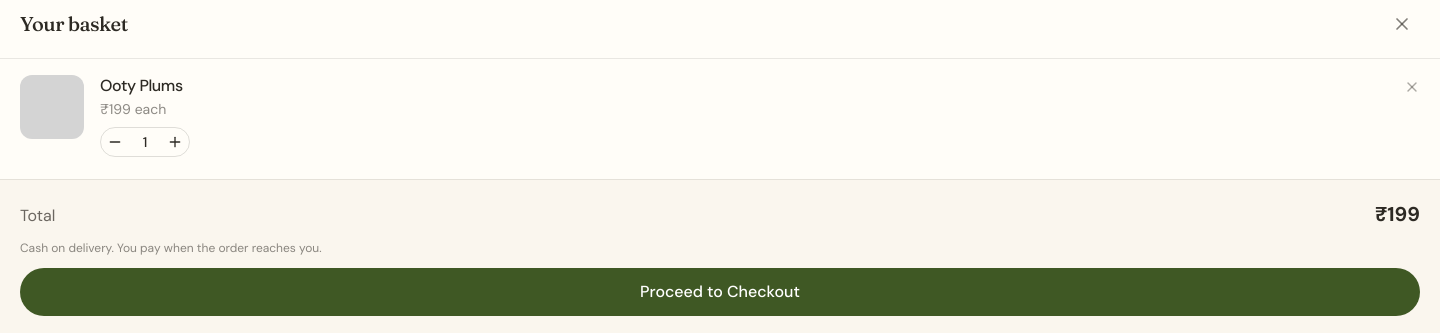
Scenario: Cart › changes quantity and total with the + and - buttons
Click the button named "Increase Ooty Plums" at (175, 142), box [161, 128, 189, 156]
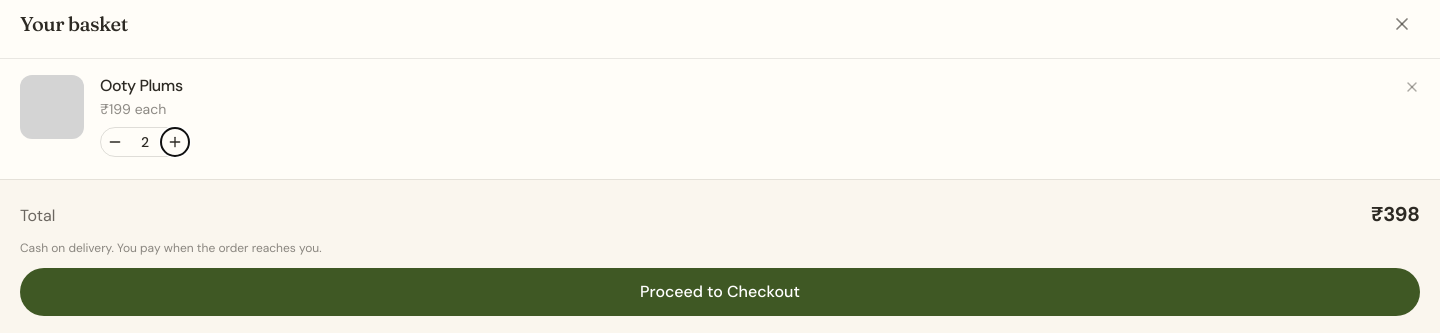
Check: the text "2" is shown, box [141, 133, 149, 151]
Check: the text "₹398" is shown, box [1371, 200, 1420, 228]
Click the button named "Decrease Ooty Plums" at (115, 142), box [101, 128, 129, 156]
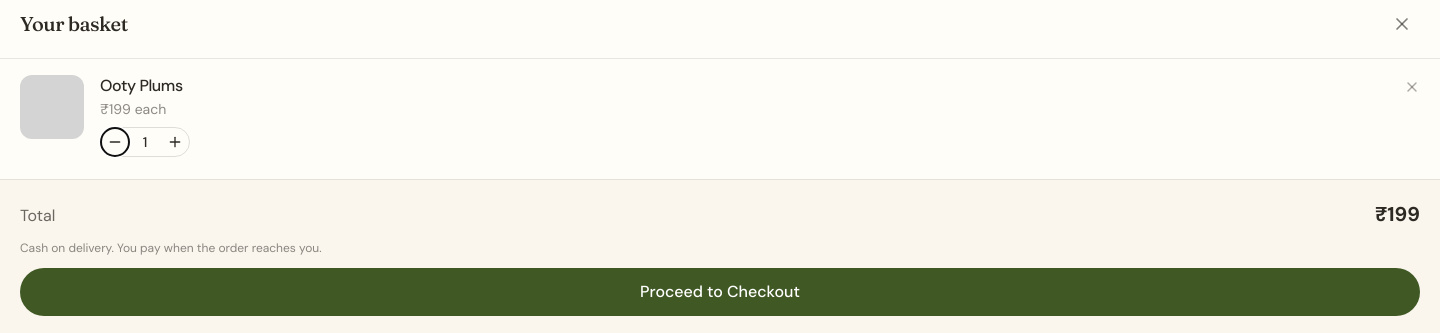
Click the button named "Decrease Ooty Plums" at (115, 142), box [101, 128, 129, 156]
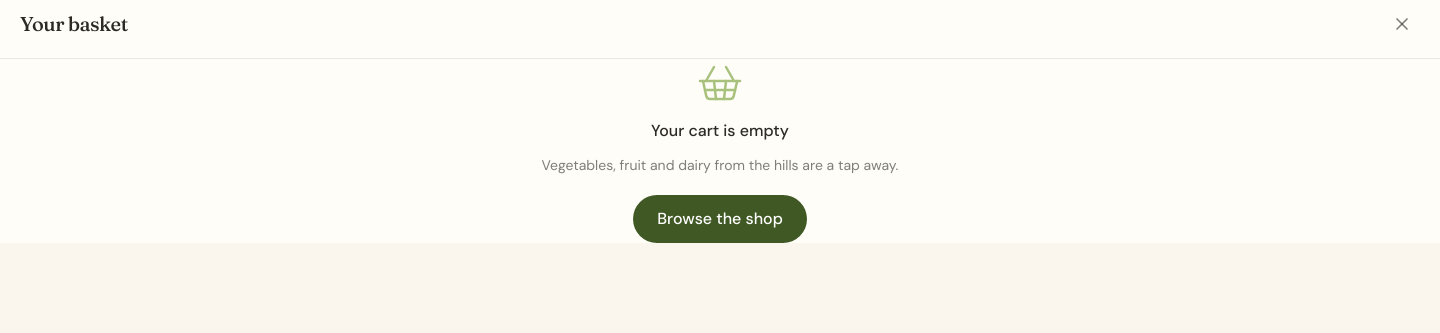
Check: the text "Your cart is empty" is shown, box [651, 119, 789, 143]
